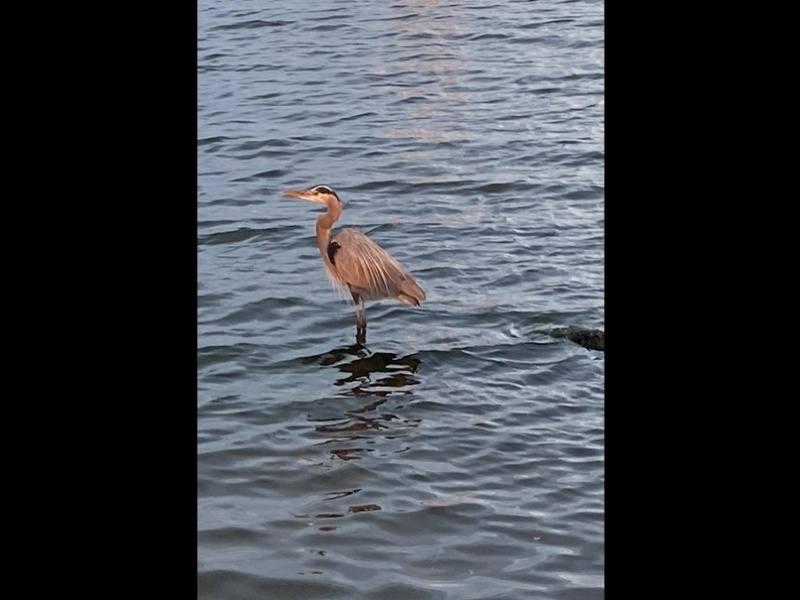heron: (279, 181, 429, 359)
